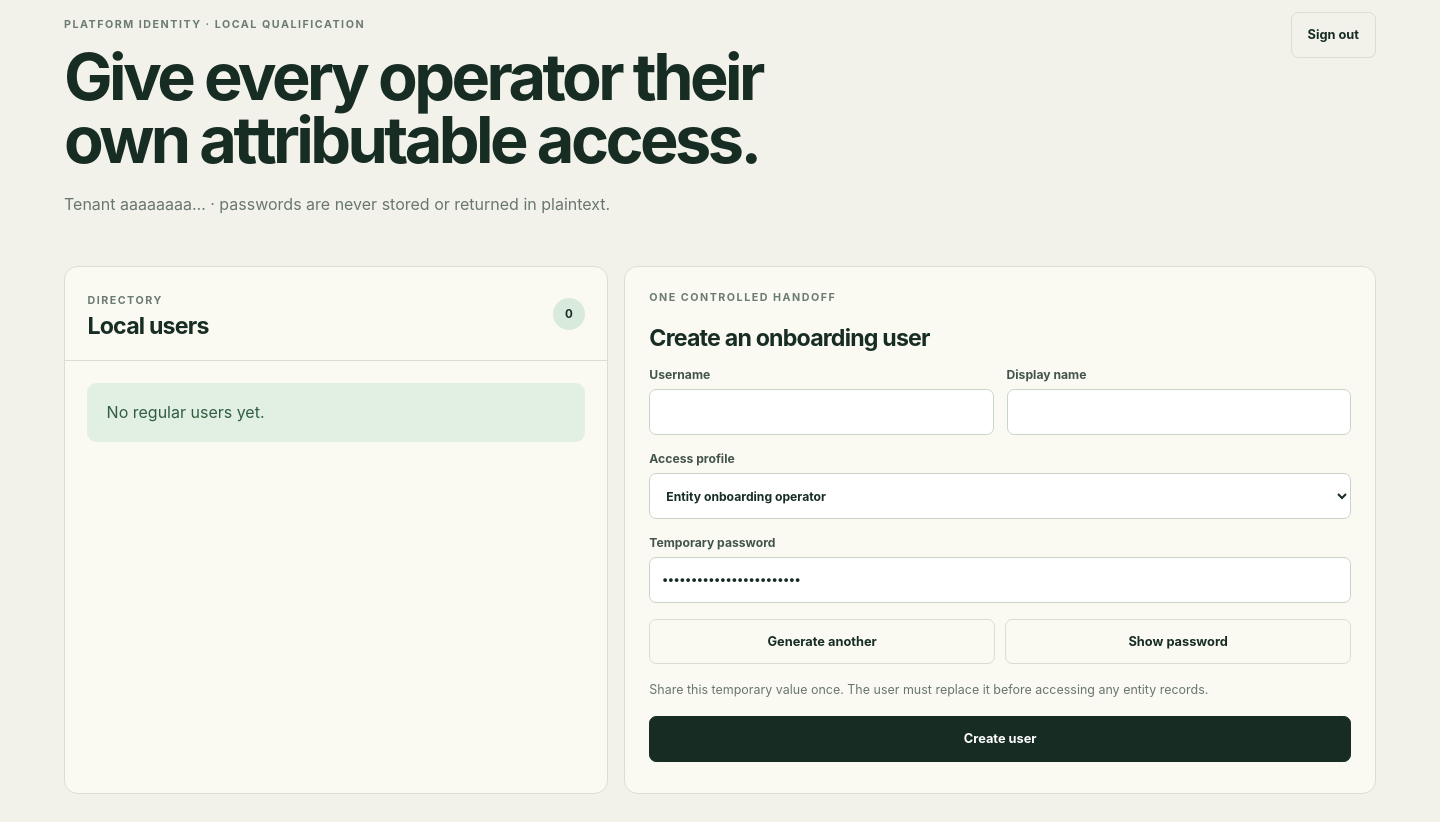
it: creates a role-bounded user and exposes the one-time handoff
The width and height of the screenshot is (1440, 822).
Check: the heading "Create an onboarding user" is shown, box [649,324,930,352]
Type "onboarding.operator" into the field labelled "Username" at (822, 412), box [649,390,994,435]
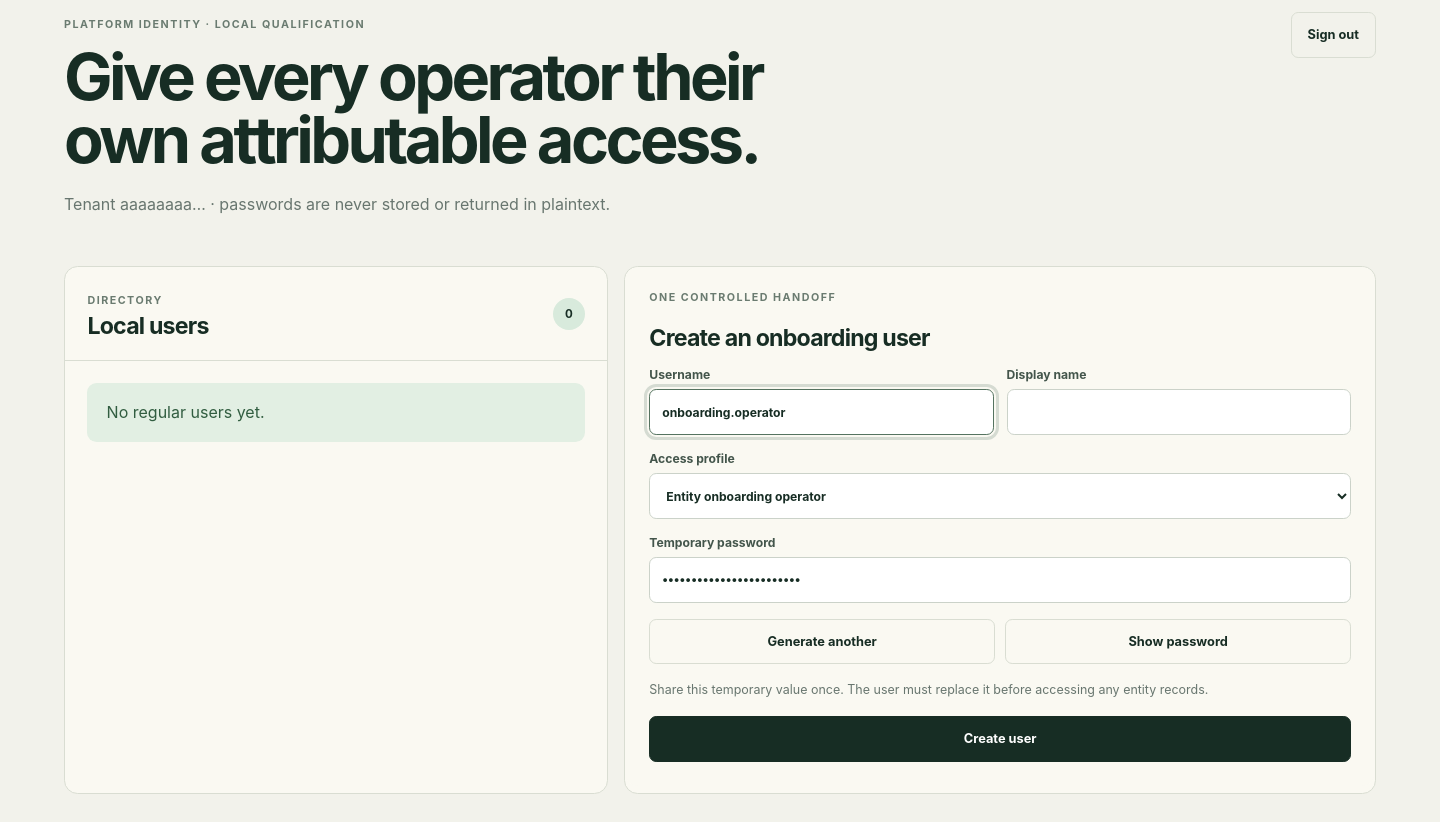
Type "Onboarding Operator" into the field labelled "Display name" at (1179, 412), box [1006,390,1351,435]
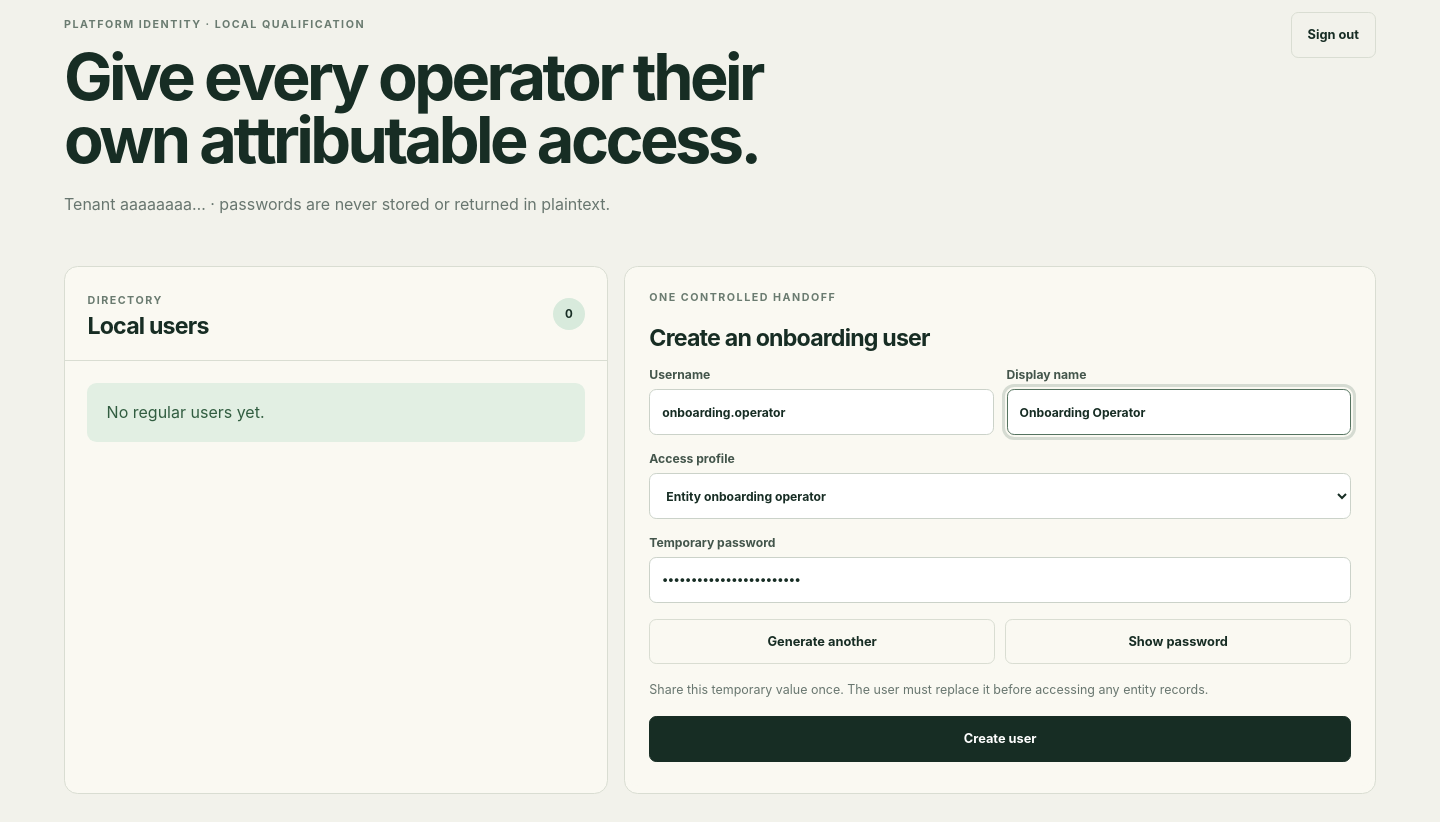
Type "Temporary passphrase 2026!" into the password field labelled "Temporary password" at (1000, 580), box [649,557,1351,603]
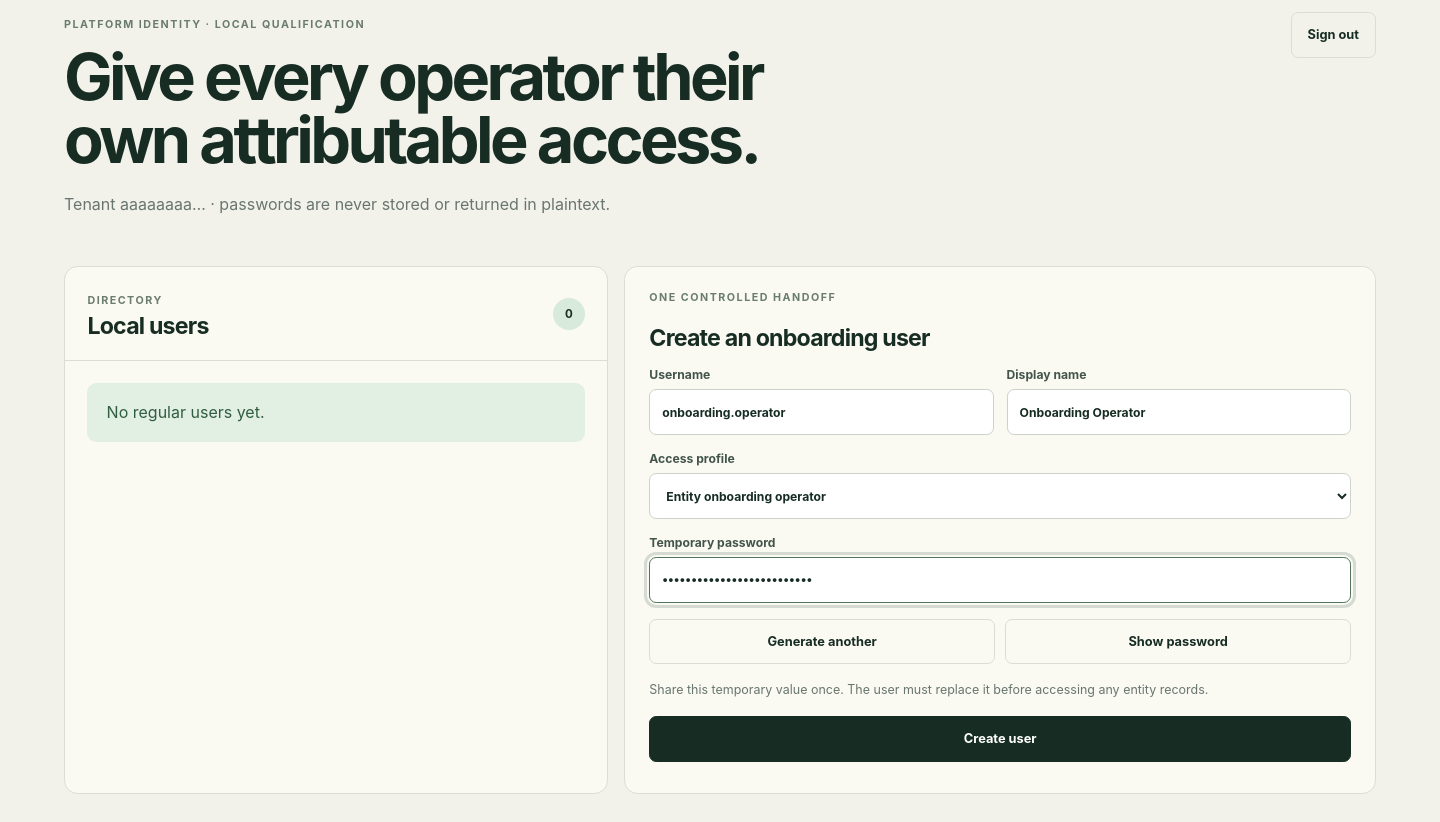
Click the button "Create user" at (1000, 739), box [649,716,1351,762]
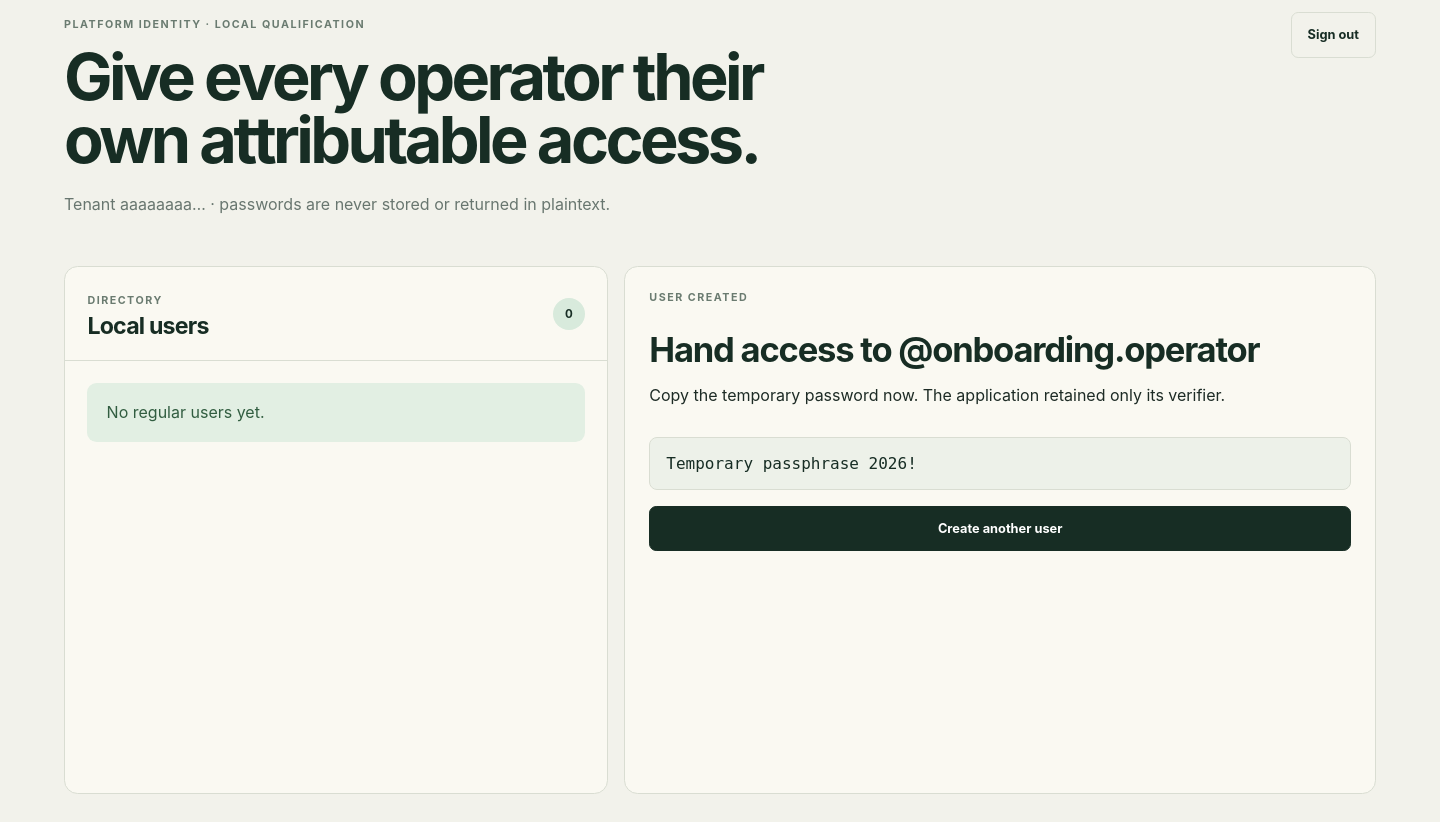
Check: the heading "Hand access to @onboarding.operator" is shown, box [649,331,1351,369]
Check: the text named "Temporary password" reads "Temporary passphrase 2026!", box [666,454,917,473]
